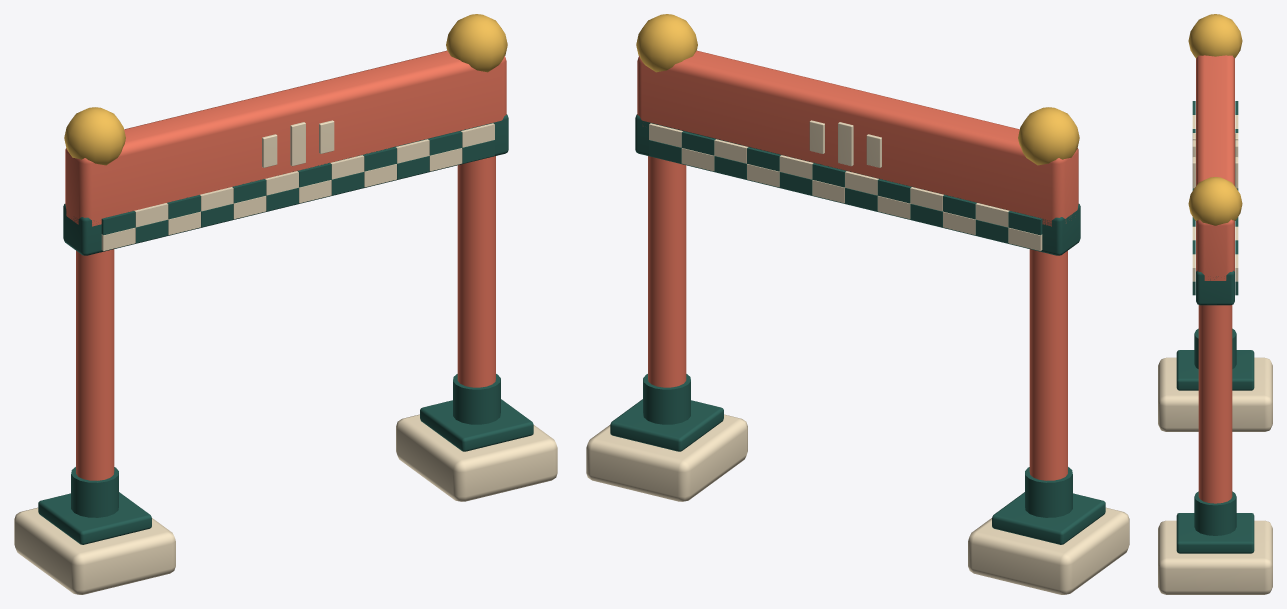
The model's file is athlete_finish_gate.glb.
3 views of the same model, side by side, from view 1: azimuth 30°, elevation 25°; view 2: azimuth 150°, elevation 25°; view 3: azimuth 270°, elevation 25° (orthographic). The views are drawn at different scales.
Visible parts, largest first — view 1: athlete_finish_gate__coral, athlete_finish_gate__cream, athlete_finish_gate__ink, athlete_finish_gate__gold; view 2: athlete_finish_gate__coral, athlete_finish_gate__cream, athlete_finish_gate__ink, athlete_finish_gate__gold; view 3: athlete_finish_gate__coral, athlete_finish_gate__cream, athlete_finish_gate__ink, athlete_finish_gate__gold.
Boxes of the visible parts, x1,y1,x2,y2 form: athlete_finish_gate__coral: (65, 50, 506, 480); athlete_finish_gate__cream: (14, 120, 557, 594); athlete_finish_gate__ink: (38, 114, 533, 544); athlete_finish_gate__gold: (64, 14, 507, 165); athlete_finish_gate__coral: (637, 50, 1078, 480); athlete_finish_gate__cream: (586, 120, 1129, 594); athlete_finish_gate__ink: (610, 114, 1105, 544); athlete_finish_gate__gold: (636, 14, 1079, 165); athlete_finish_gate__coral: (1196, 55, 1234, 503); athlete_finish_gate__cream: (1158, 115, 1272, 594); athlete_finish_gate__ink: (1176, 101, 1254, 553); athlete_finish_gate__gold: (1188, 14, 1242, 225).
Size of the model in its own units: 2.9 by 2.59 by 0.68.
